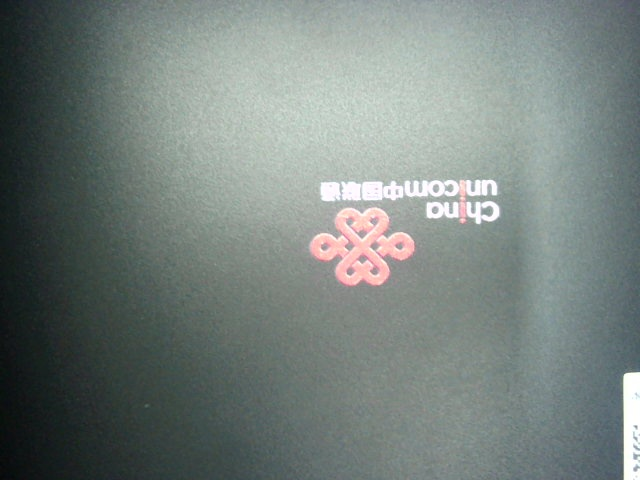AC_ChinaUnicom: (297, 167, 516, 298)
